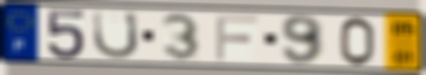0: (337, 16, 378, 67)
3: (159, 12, 203, 61)
5: (45, 8, 88, 60)
9: (279, 14, 328, 66)
F: (213, 13, 261, 62)
U: (91, 9, 142, 60)
